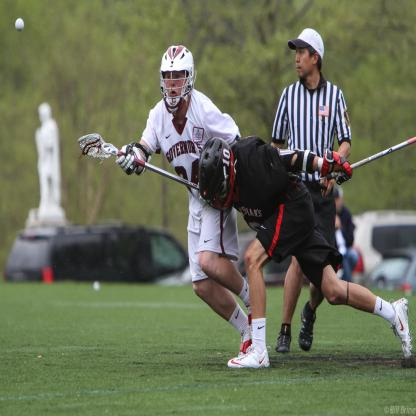Helmet: (197, 130, 240, 214), (159, 47, 199, 110)
